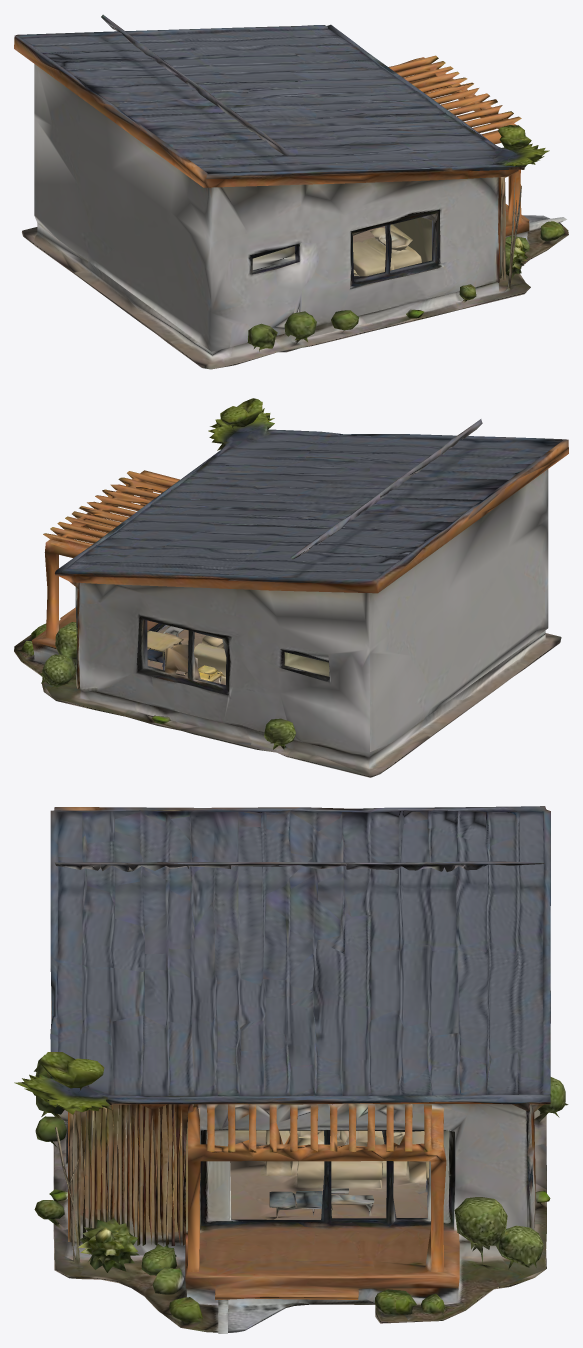
The model's file is casa-moderna.glb.
The picture shows the model from 3 angles, top to bottom: view 1: azimuth 30°, elevation 25°; view 2: azimuth 150°, elevation 25°; view 3: azimuth 270°, elevation 25°; orthographic projection. The views are drawn at different scales.
Visible parts, largest first — view 1: tripo_node_ace606fb-9bb6-49ca-892c-ef3e819e554e; view 2: tripo_node_ace606fb-9bb6-49ca-892c-ef3e819e554e; view 3: tripo_node_ace606fb-9bb6-49ca-892c-ef3e819e554e.
Part boxes in pixels (left/top/right/bottom): tripo_node_ace606fb-9bb6-49ca-892c-ef3e819e554e: left=14, top=14, right=568, bottom=369; tripo_node_ace606fb-9bb6-49ca-892c-ef3e819e554e: left=14, top=398, right=568, bottom=777; tripo_node_ace606fb-9bb6-49ca-892c-ef3e819e554e: left=14, top=806, right=568, bottom=1333.
Size of the model in its own units: 2.23 by 0.9999 by 1.92.
Materials: 1 (1 with a texture image).
